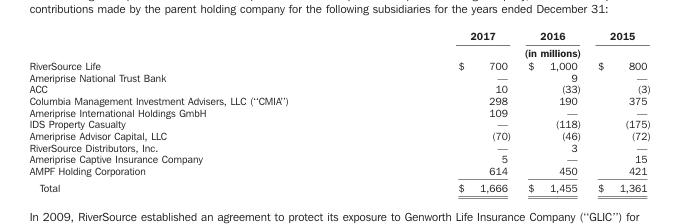table: (28, 29, 649, 192)
table column: (28, 29, 372, 192), (372, 29, 518, 192), (518, 29, 588, 192), (588, 29, 649, 192)
table column header: (28, 29, 649, 58)
table row: (28, 43, 649, 58), (28, 29, 649, 43), (28, 164, 649, 178), (28, 178, 649, 192), (28, 58, 649, 71), (28, 82, 649, 94), (28, 94, 649, 106), (28, 117, 649, 129), (28, 140, 649, 152), (28, 152, 649, 164), (28, 71, 649, 82), (28, 106, 649, 117), (28, 129, 649, 140)
table spanning cell: (372, 43, 649, 58)
